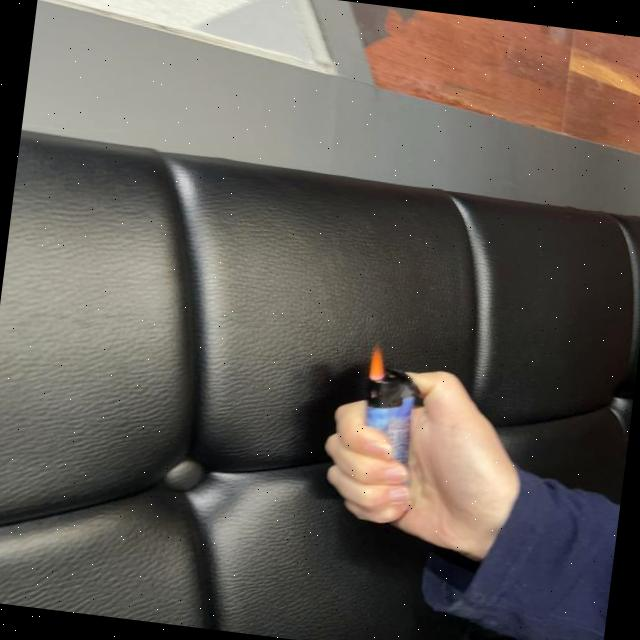fire: (366, 343, 390, 384)
